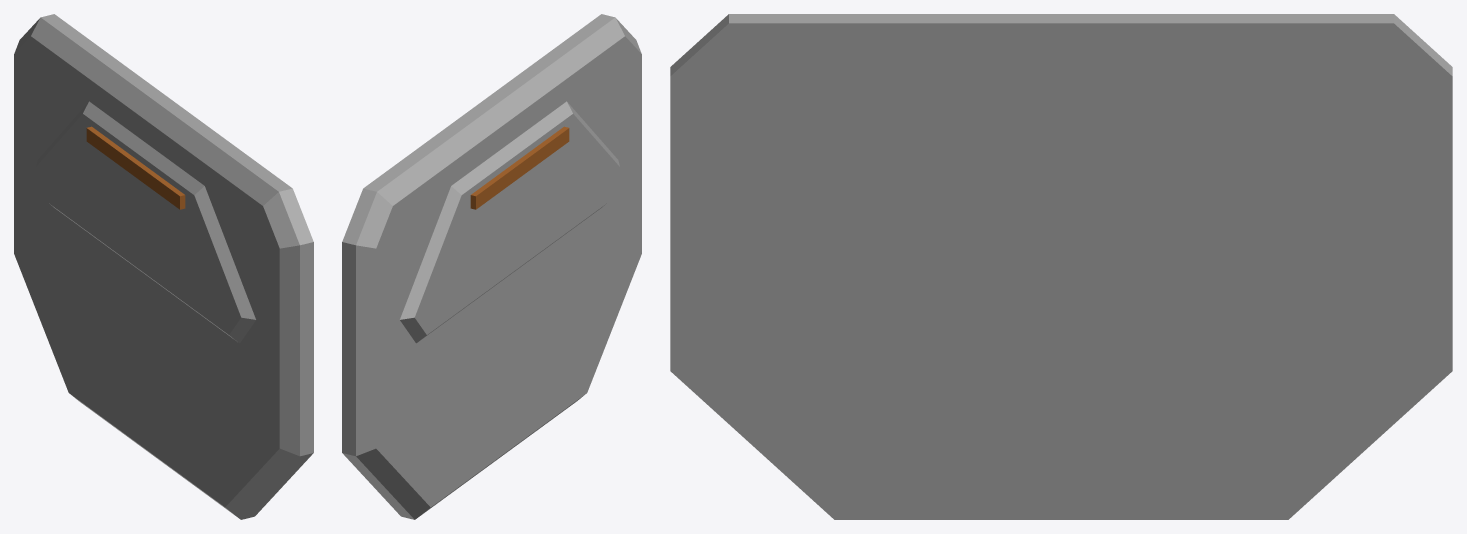
The model's file is SM_Barricade_0.fbx.
3 renders of one model, left to right at view 1: azimuth 30°, elevation 25°; view 2: azimuth 150°, elevation 25°; view 3: azimuth 270°, elevation 25°, orthographic. The views are drawn at different scales.
Visible parts, largest first — view 1: pCube38; view 2: pCube38; view 3: pCube38.
Boxes of the visible parts, x1,y1,x2,y2 form: pCube38: (14, 14, 313, 519); pCube38: (342, 14, 641, 519); pCube38: (670, 14, 1452, 519).
Bounding box in the file's own units: 15.14 × 127 × 182.
